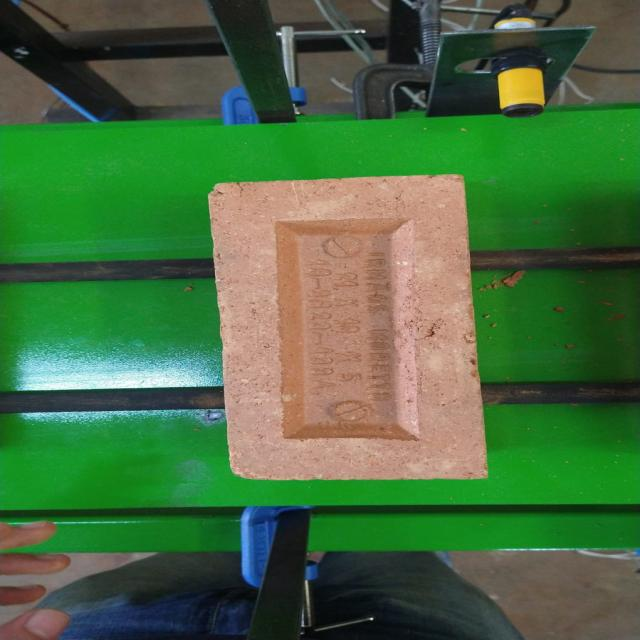bricks: (210, 173, 491, 479)
